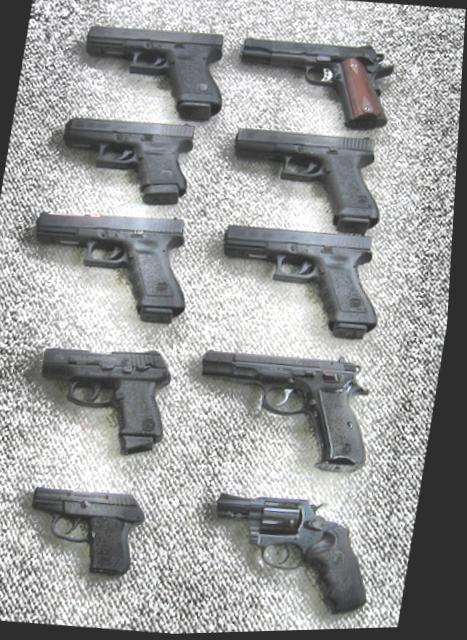pistol: (187, 340, 387, 478), (205, 485, 388, 621), (211, 218, 393, 347), (29, 336, 182, 460), (21, 482, 155, 582)
